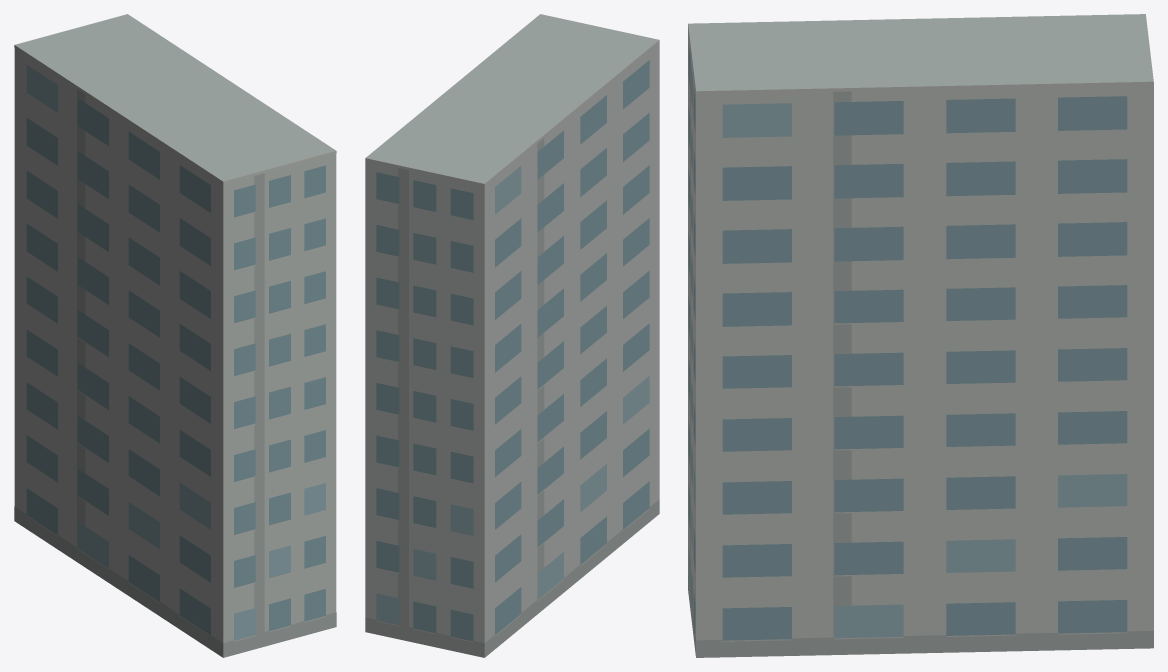
File: residential-13b8f272-67a4-4fd7-9e5c-600049088e14.glb
The picture shows the model from 3 angles, left to right: view 1: azimuth 30°, elevation 25°; view 2: azimuth 150°, elevation 25°; view 3: azimuth 270°, elevation 25°; orthographic projection. The views are drawn at different scales.
Parts seen in each view (by area): view 1: residential-13b8f272-67a4-4fd7-9e5c-600049088e14.tmp; view 2: residential-13b8f272-67a4-4fd7-9e5c-600049088e14.tmp; view 3: residential-13b8f272-67a4-4fd7-9e5c-600049088e14.tmp.
Boxes of the visible parts, x1,y1,x2,y2 form: residential-13b8f272-67a4-4fd7-9e5c-600049088e14.tmp: (14, 14, 336, 657); residential-13b8f272-67a4-4fd7-9e5c-600049088e14.tmp: (365, 14, 659, 657); residential-13b8f272-67a4-4fd7-9e5c-600049088e14.tmp: (688, 14, 1153, 657).
Bounding box in the file's own units: 11.99 × 41 × 30.55.
